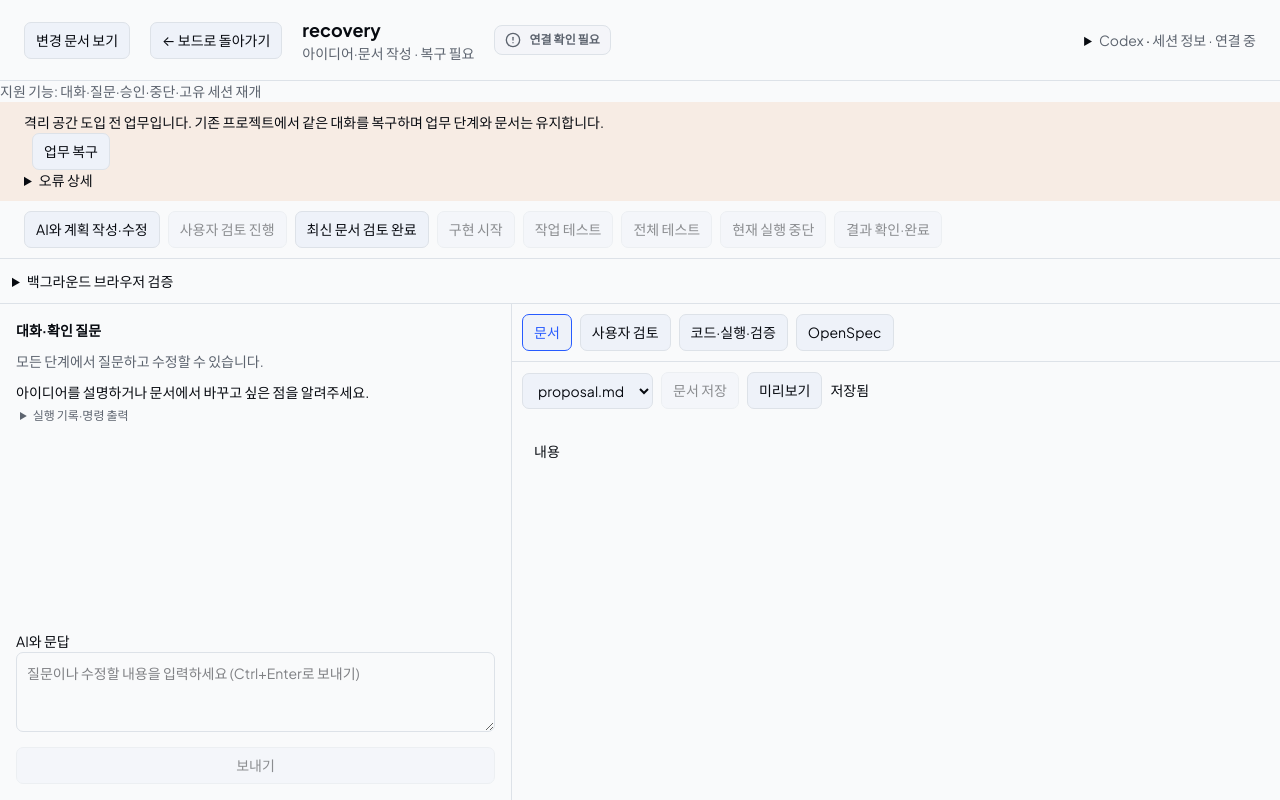
Test case: 업무 복구로 같은 대화를 연결하고 오류 제거 후 문서·대화 초안을 유지한다
Check: the text "격리 공간 도입 전 업무입니다. 기존 프로젝트에서 같은 대화를 복구하며 업무 단계와 문서는 유지합니다." is shown, box [24,113,604,131]
Type "보낼 질문 초안" into the text box labelled "AI와 문답". click: (256, 692)
box: [16,652,495,732]
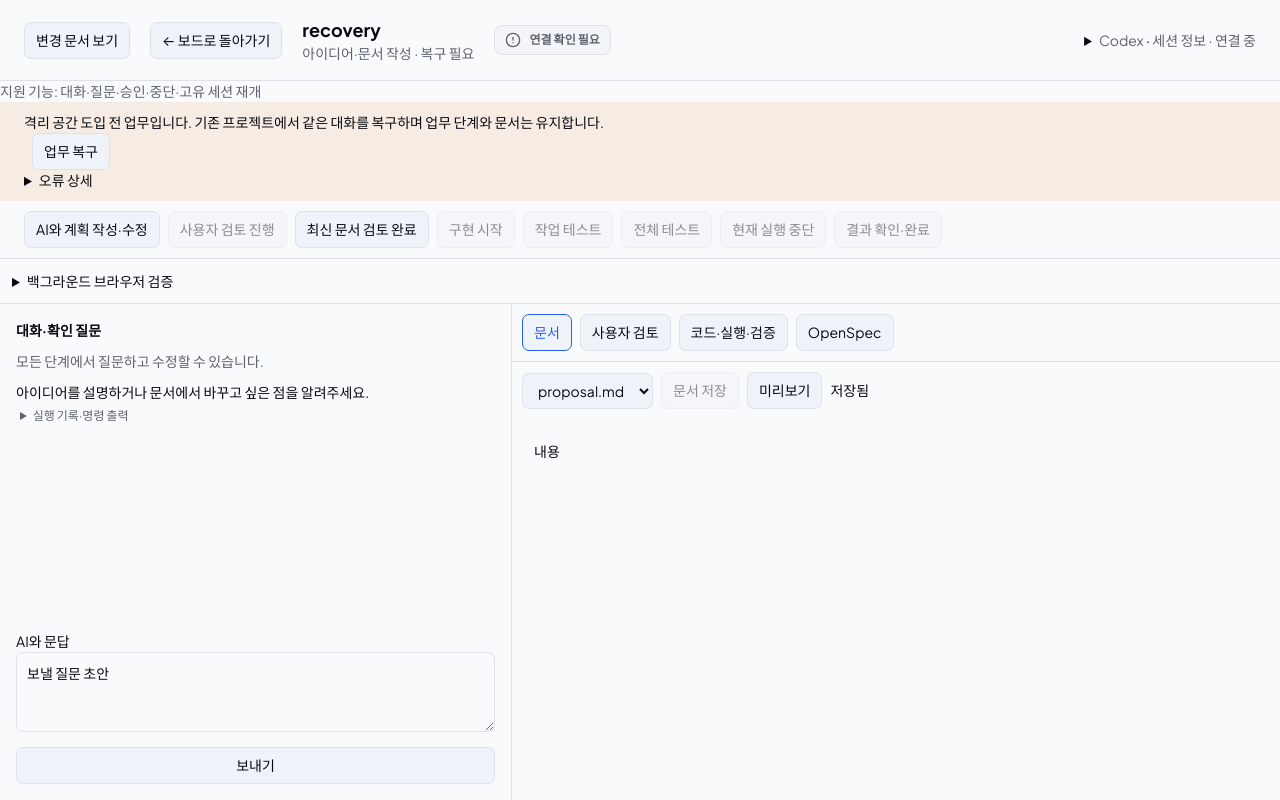
Replace the text in the text box named "문서 내용" with "문서 수정 초안". click: (896, 610)
box: [512,419,1279,799]
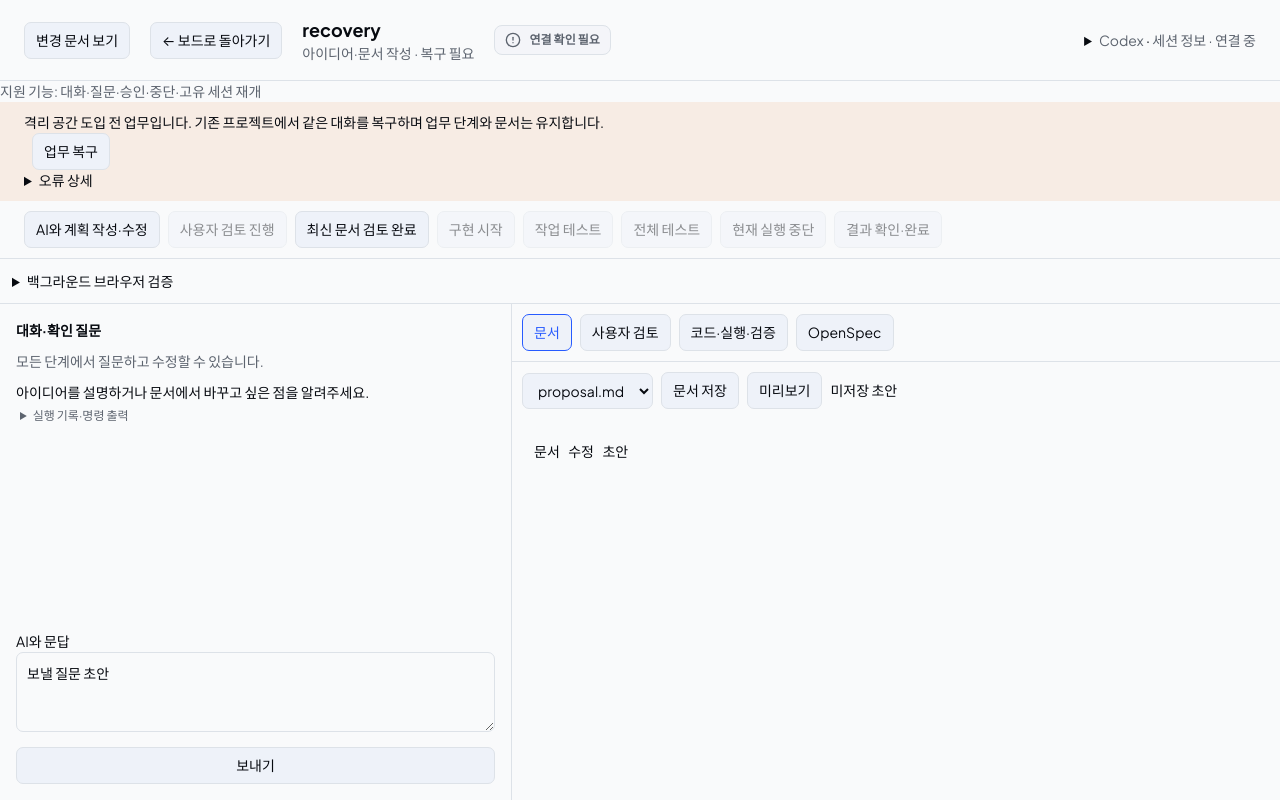
Click the button "업무 복구". click: (71, 152)
box: [32,133,110,170]
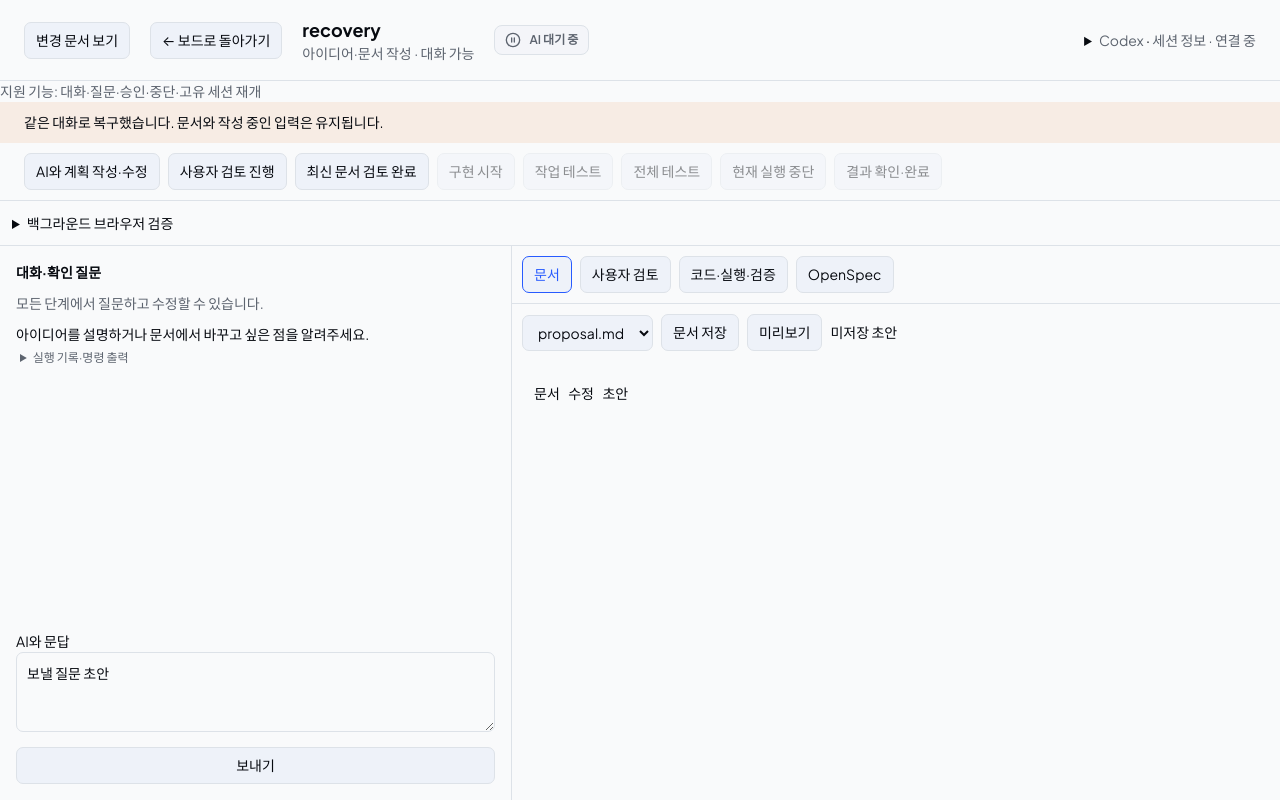
Check: the text "같은 대화로 복구했습니다. 문서와 작성 중인 입력은 유지됩니다." is shown, box [0,102,1279,143]
